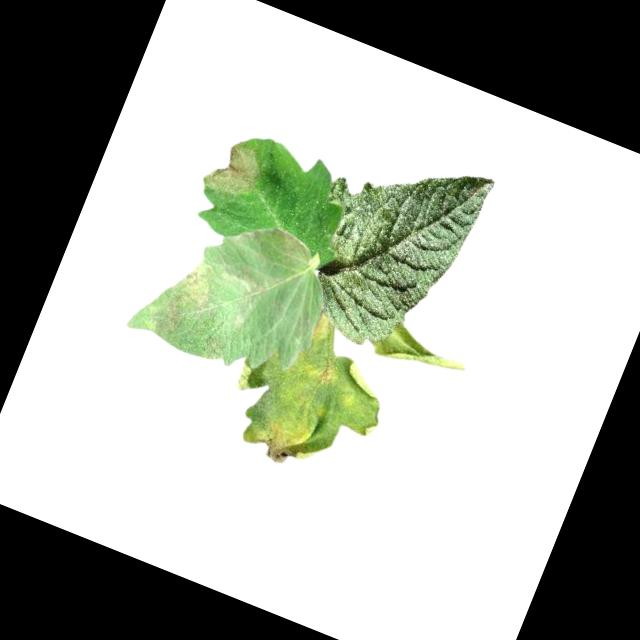Late_blight: (369, 316, 475, 389), (144, 250, 221, 349), (223, 210, 317, 275), (252, 408, 322, 474), (201, 135, 266, 202), (307, 354, 340, 389), (308, 309, 335, 346), (199, 330, 228, 364)
